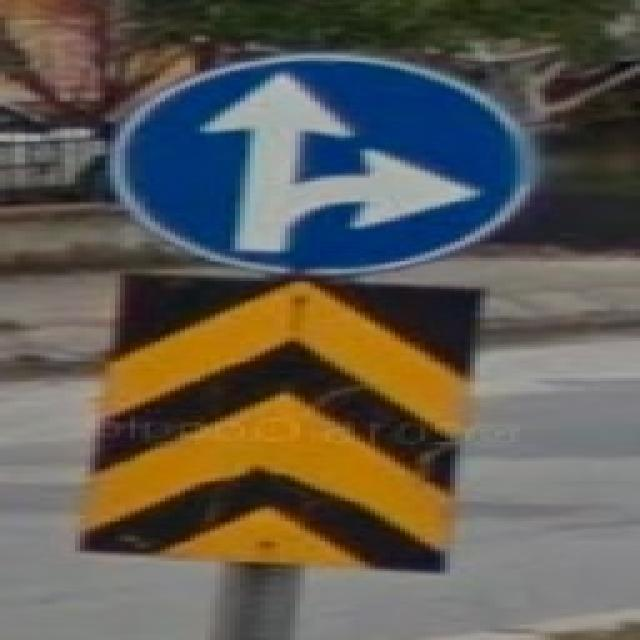Straight or Right: (121, 55, 531, 277)
